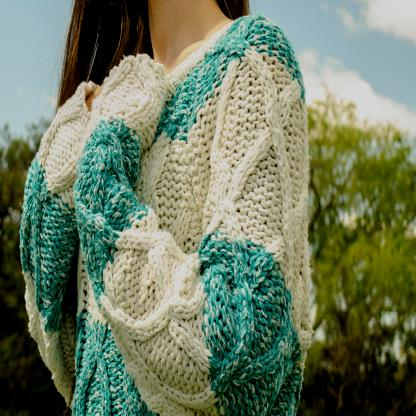dress: (21, 9, 316, 416)
